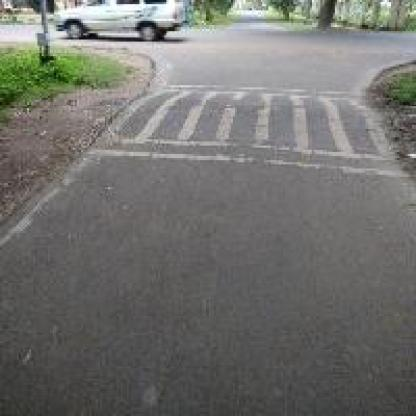Speed Bump: (94, 81, 397, 175)
